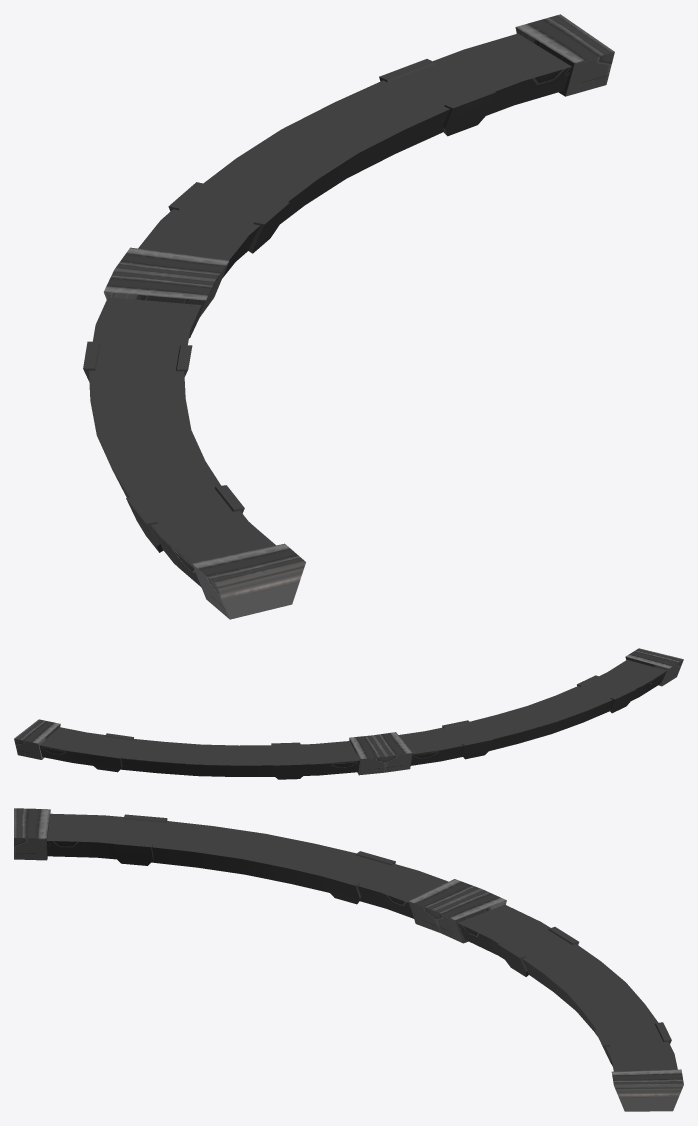
The model's file is Prop_Light_Corner.gltf.
The picture shows the model from 3 angles, top to bottom: view 1: azimuth 30°, elevation 25°; view 2: azimuth 150°, elevation 25°; view 3: azimuth 270°, elevation 25°; orthographic projection. The views are drawn at different scales.
Parts seen in each view (by area): view 1: Prop_Light_Corner; view 2: Prop_Light_Corner; view 3: Prop_Light_Corner.
Boxes of the visible parts, x1=… form: Prop_Light_Corner: x1=83, y1=14, x2=614, y2=619; Prop_Light_Corner: x1=14, y1=648, x2=683, y2=779; Prop_Light_Corner: x1=14, y1=808, x2=683, y2=1111.
Size of the model in its own units: 4.12 by 0.1819 by 4.21.
2 materials, 1 textured.
